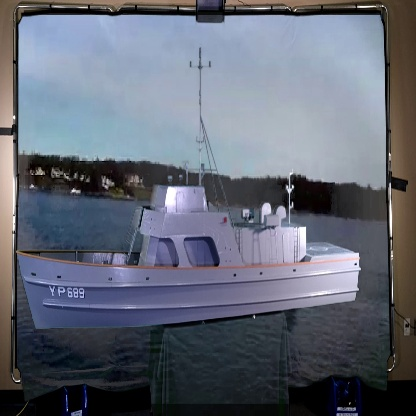YP689: (14, 45, 360, 335)
